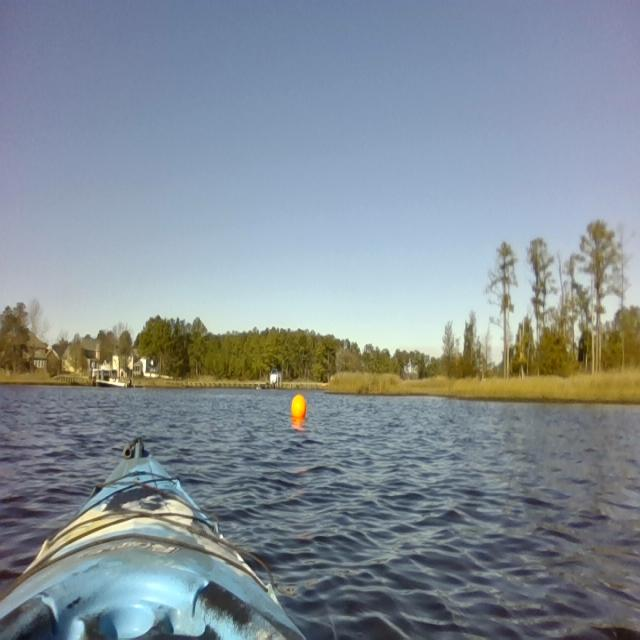Buoy: (288, 391, 312, 428)
